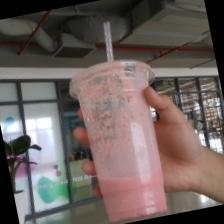Plastik: (69, 60, 166, 221)
